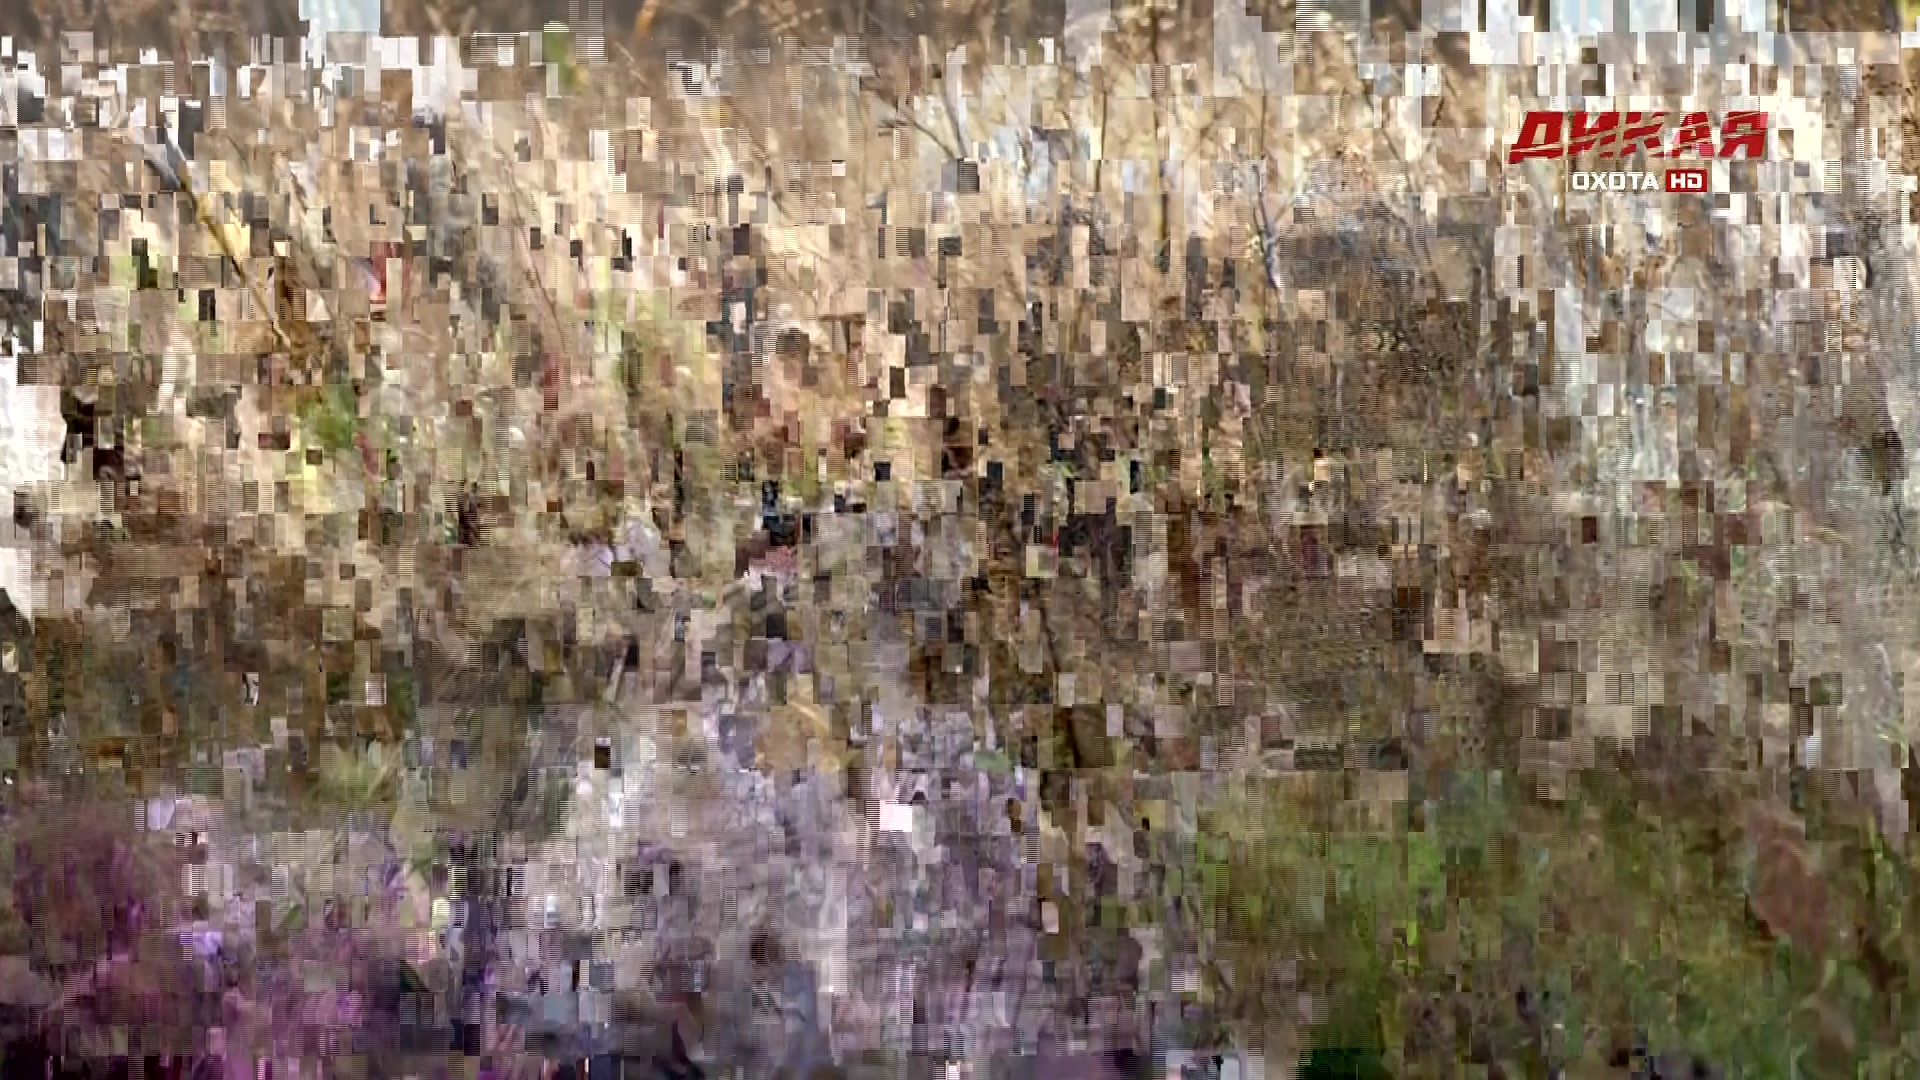Dikaya_Ohota_HD: (1505, 105, 1771, 200)
